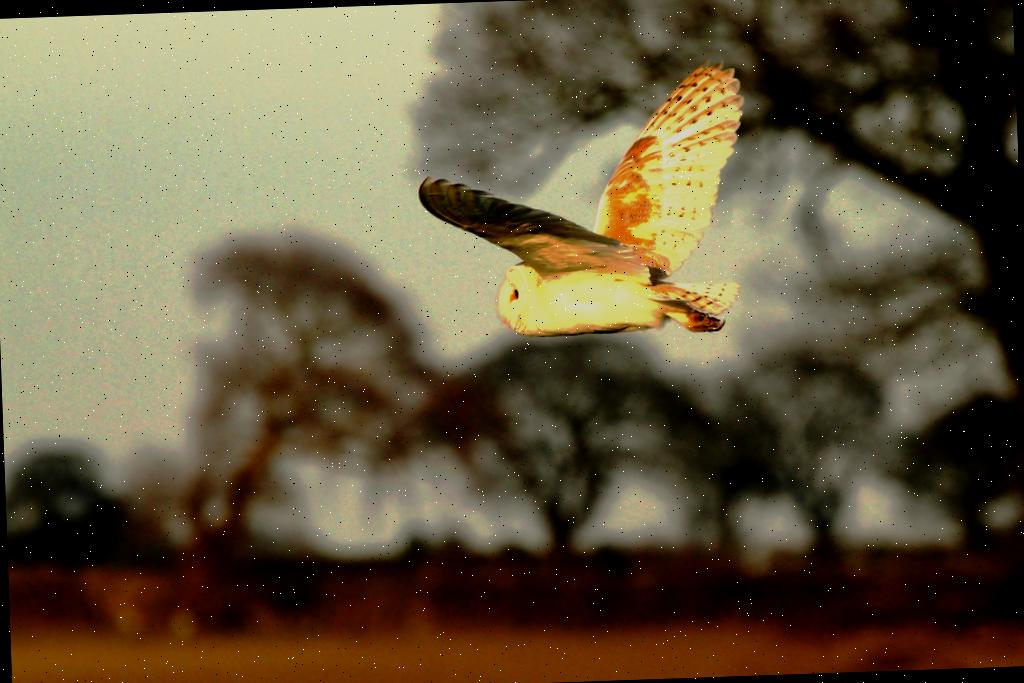Owl: (410, 55, 756, 347)
